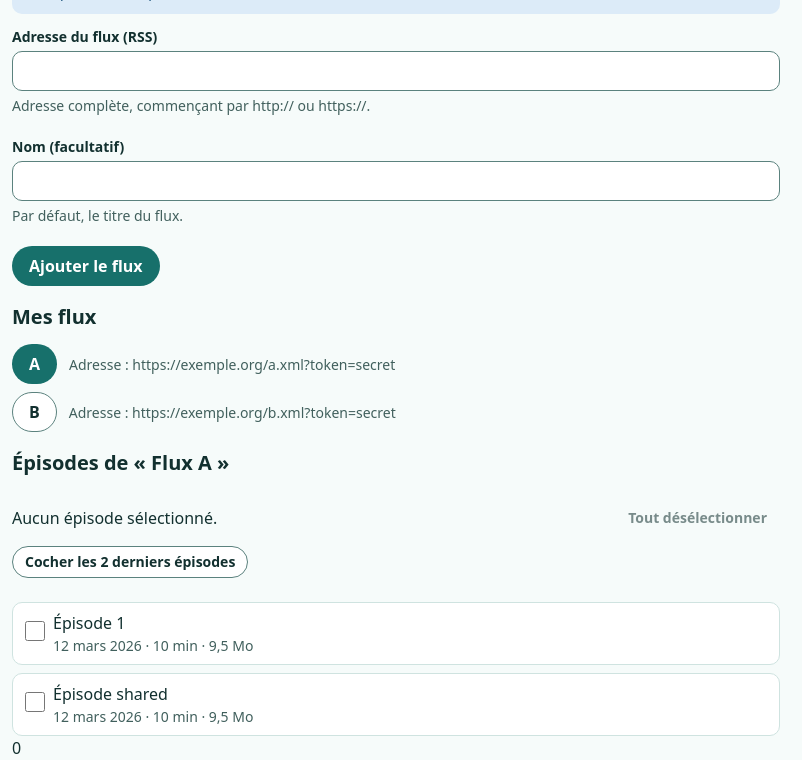
deux flux : épisodes cumulés ; un même identifiant dans deux flux reste deux épisodes
(page scrolled)
Step 1. Click the checkbox labelled "Épisode 1" → (35, 631), box [25,621,45,641]
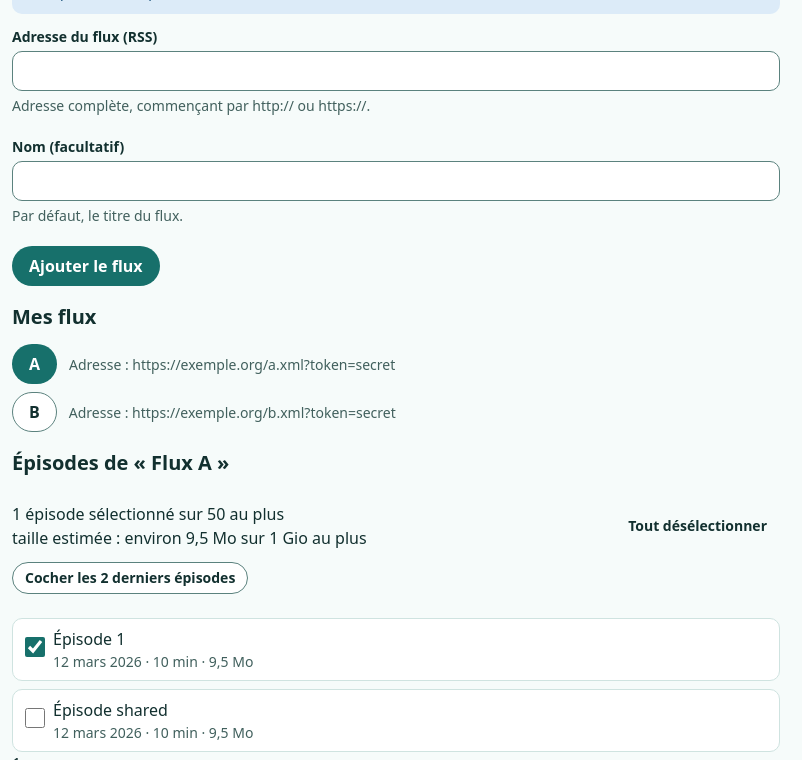
Step 2. Click the checkbox labelled "Épisode shared" → (35, 718), box [25,708,45,728]
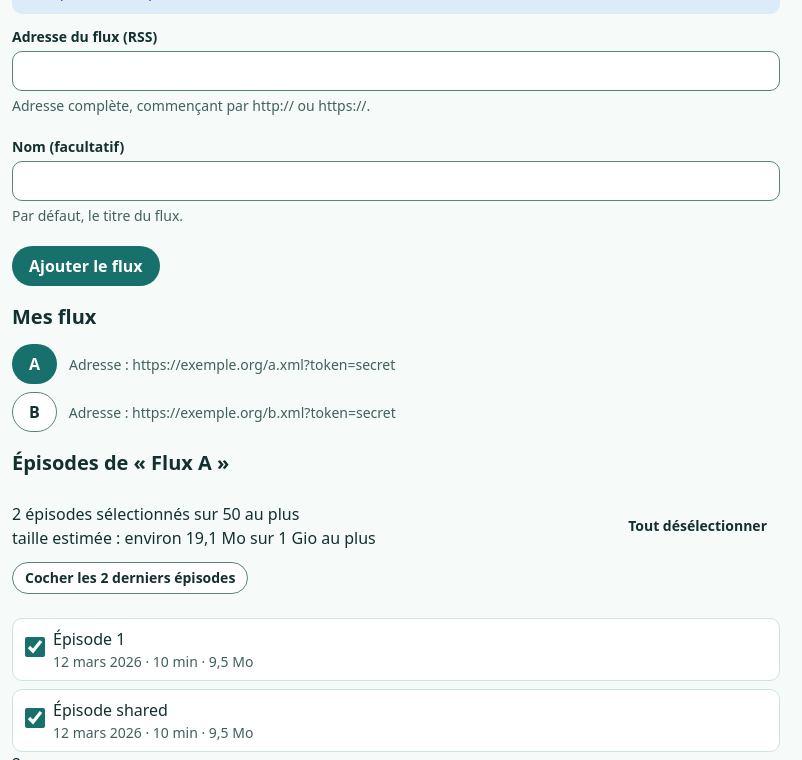
Step 3. Click the button "B" → (34, 412), box [12,392,57,432]
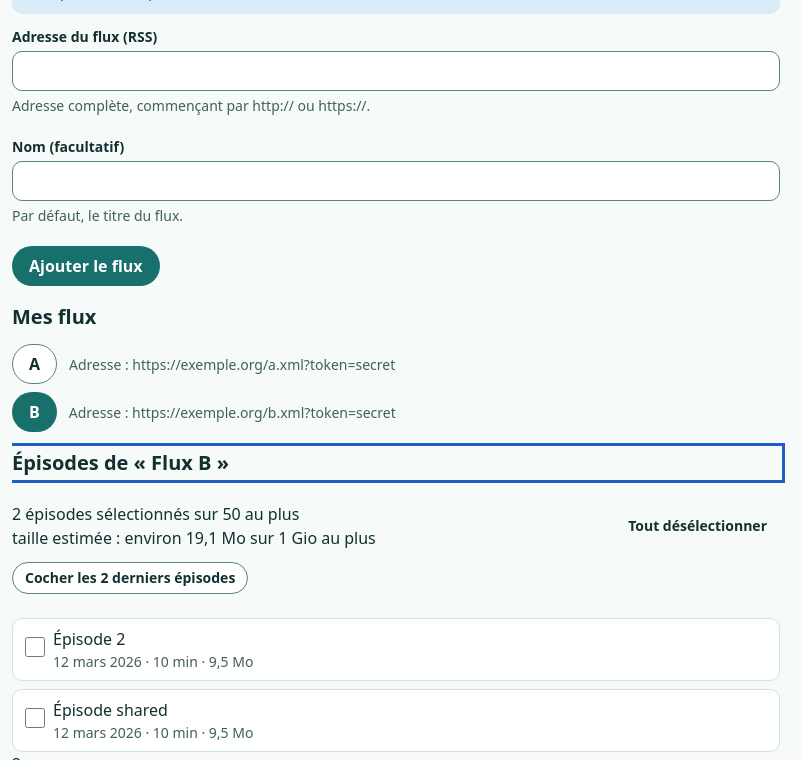
Result: the heading "Épisodes de « Flux B »" is shown at [12,449,229,476]
Result: the checkbox labelled "Épisode 2" is shown
Step 4. Click the checkbox labelled "Épisode 2" → (35, 647), box [25,637,45,657]
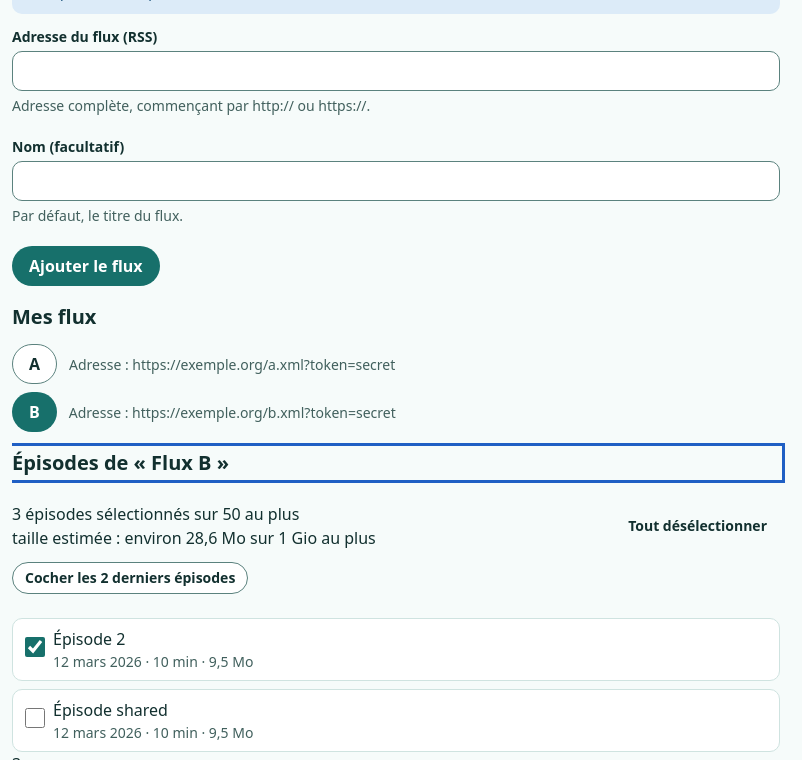
Result: the checkbox labelled "Épisode shared" is not checked
Step 5. Click the checkbox labelled "Épisode shared" → (35, 718), box [25,708,45,728]
(page scrolled)
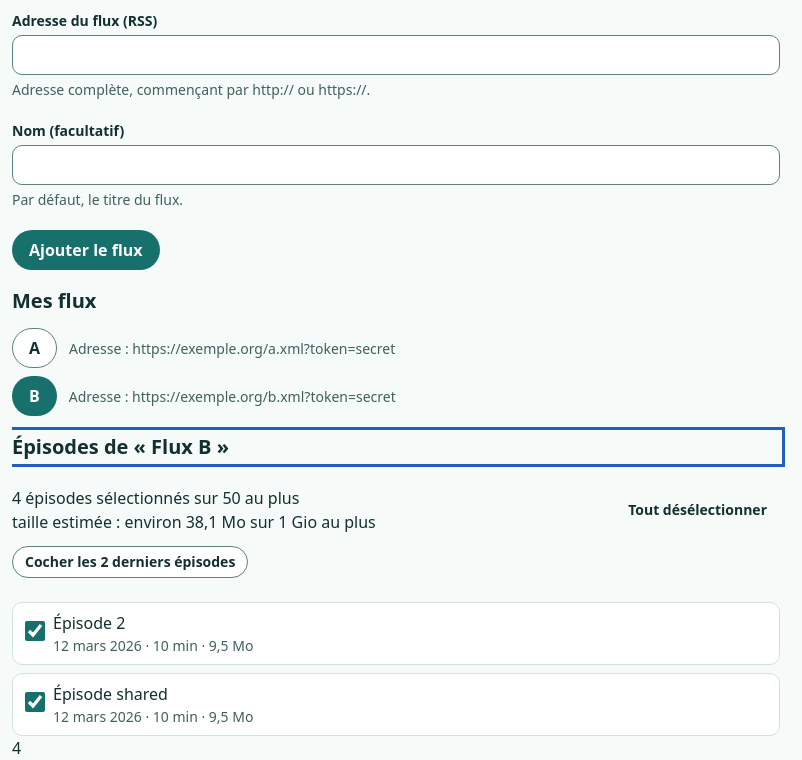
Result: the text with test id "probe" reads "4" at [12,737,21,759]
